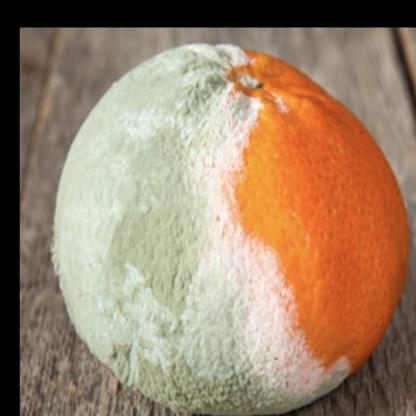rotten: (51, 41, 410, 416)
